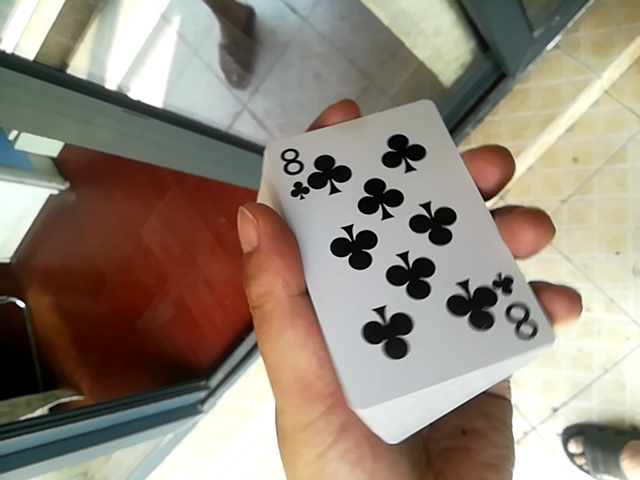mh 8: (210, 39, 536, 415)
